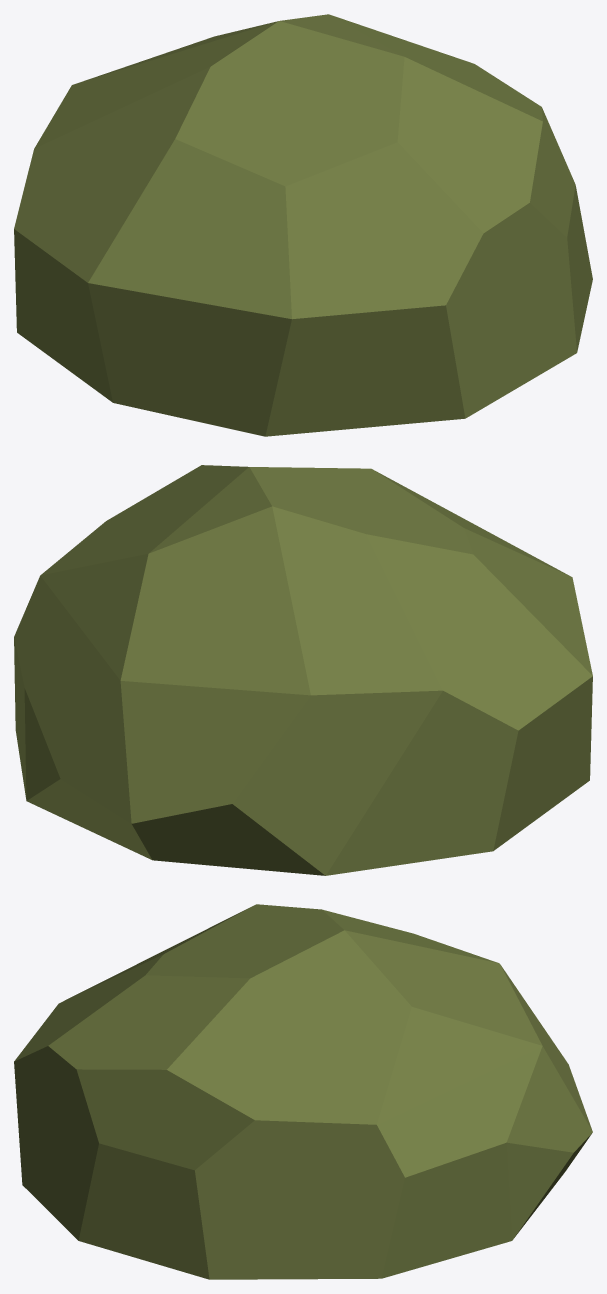
File: BushLowPoly2.fbx
3 renders of one model, top to bottom at view 1: azimuth 30°, elevation 25°; view 2: azimuth 150°, elevation 25°; view 3: azimuth 270°, elevation 25°, orthographic. The views are drawn at different scales.
Parts seen in each view (by area): view 1: BushLowPoly2; view 2: BushLowPoly2; view 3: BushLowPoly2.
Part boxes in pixels (bbox=[...]): BushLowPoly2: bbox=[14, 14, 592, 436]; BushLowPoly2: bbox=[14, 465, 592, 875]; BushLowPoly2: bbox=[14, 904, 592, 1279].
Bounding box in the file's own units: 39.59 × 20.78 × 43.63.
